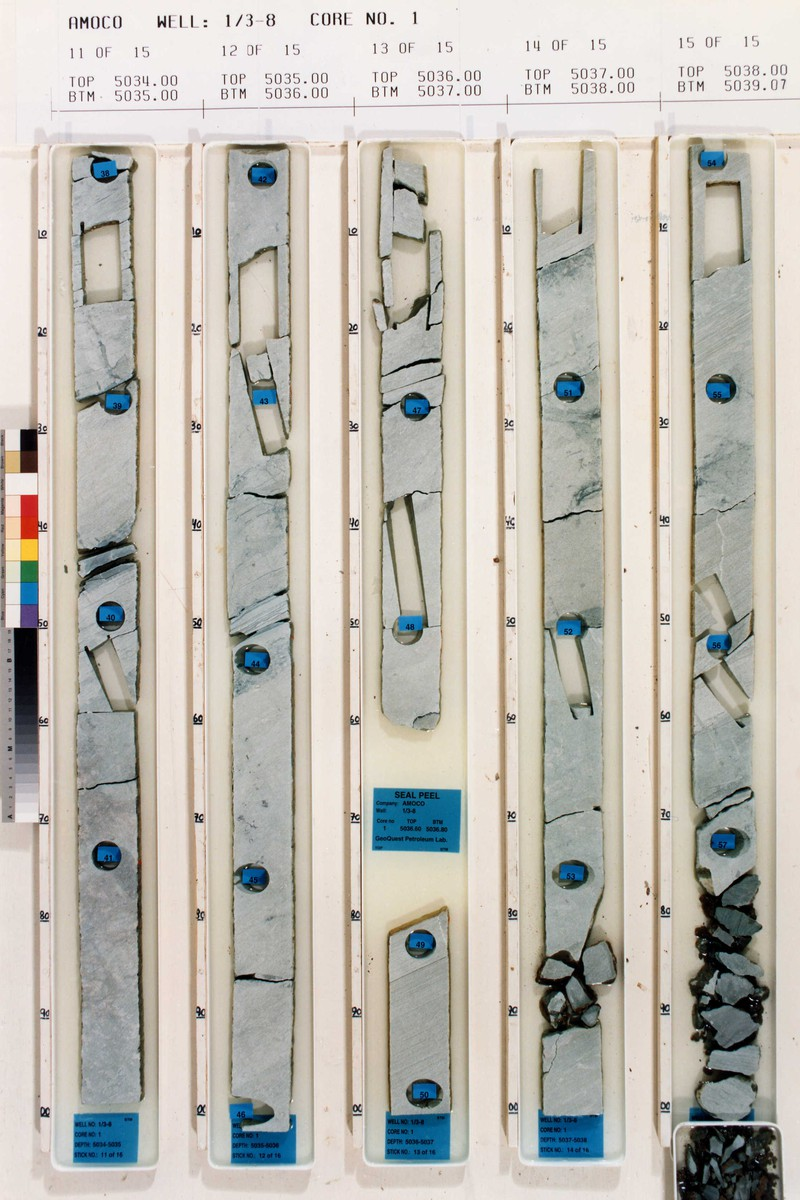core: (682, 146, 779, 1200), (525, 145, 616, 1116), (377, 153, 463, 1117), (221, 143, 297, 1132), (68, 152, 146, 1113)
